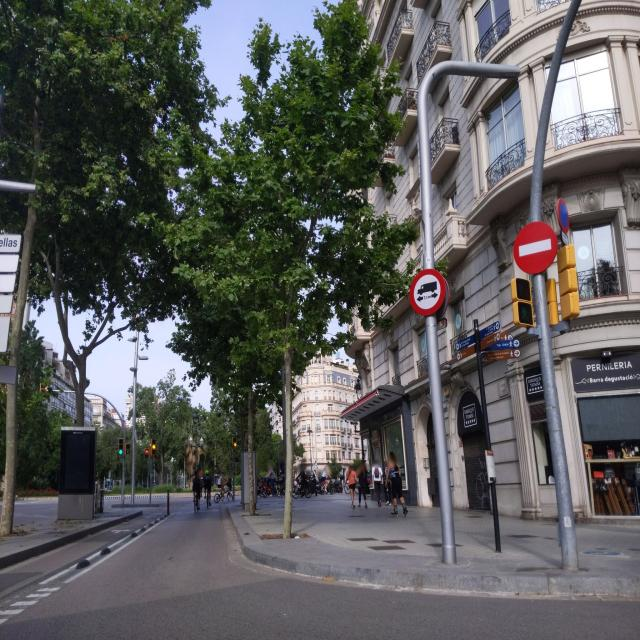forb_stopping: (559, 201, 568, 230)
